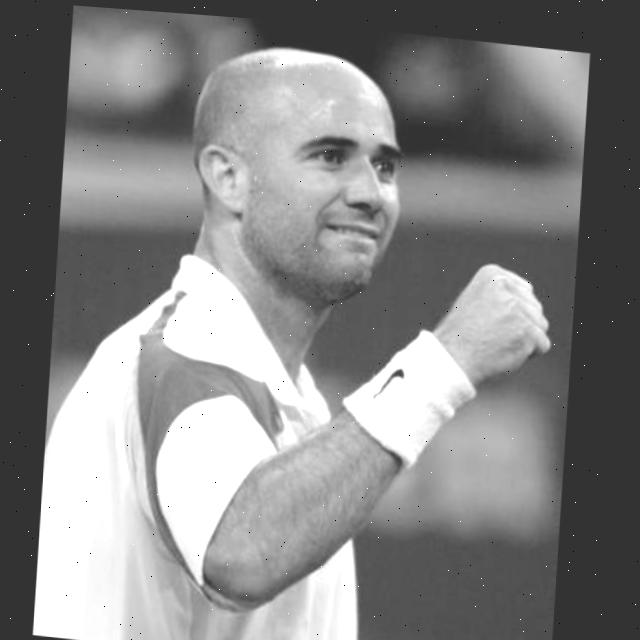face: (182, 45, 435, 333)
